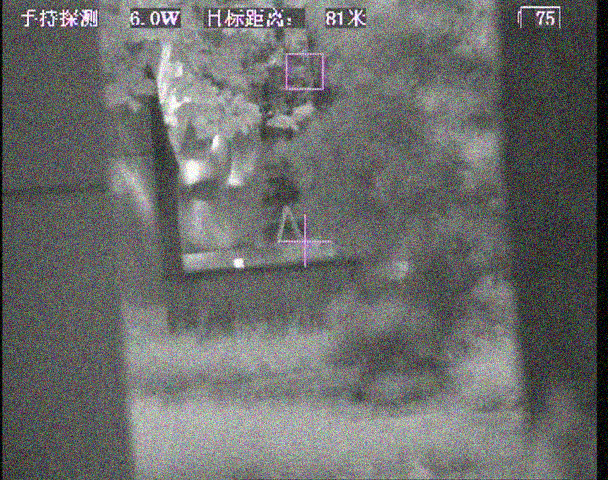my: (232, 257, 245, 268)
